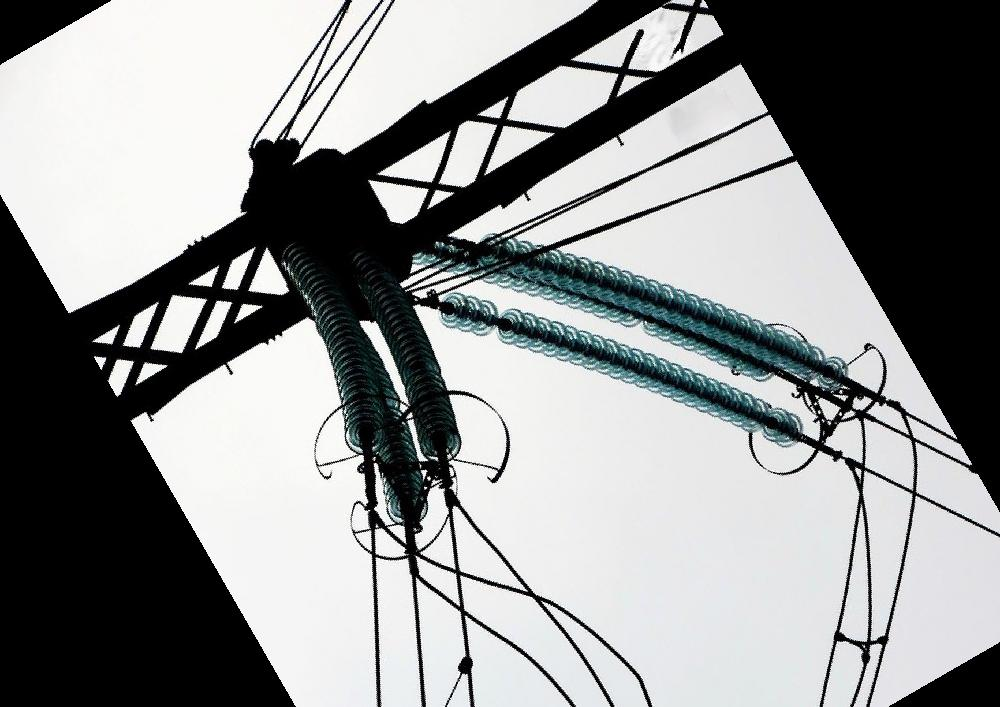insulator: (412, 227, 852, 403), (435, 286, 806, 453), (278, 235, 432, 532), (350, 242, 469, 468)
insulator_stringdrop: (473, 299, 525, 349)
